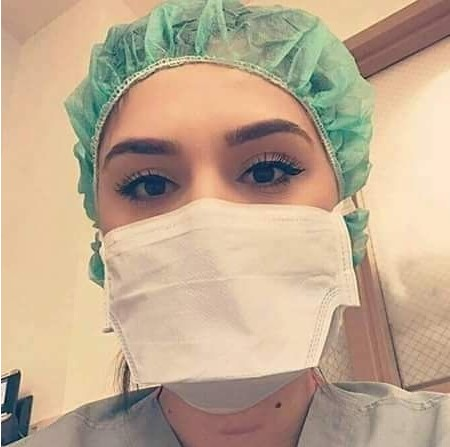face_with_mask: (65, 2, 376, 416)
